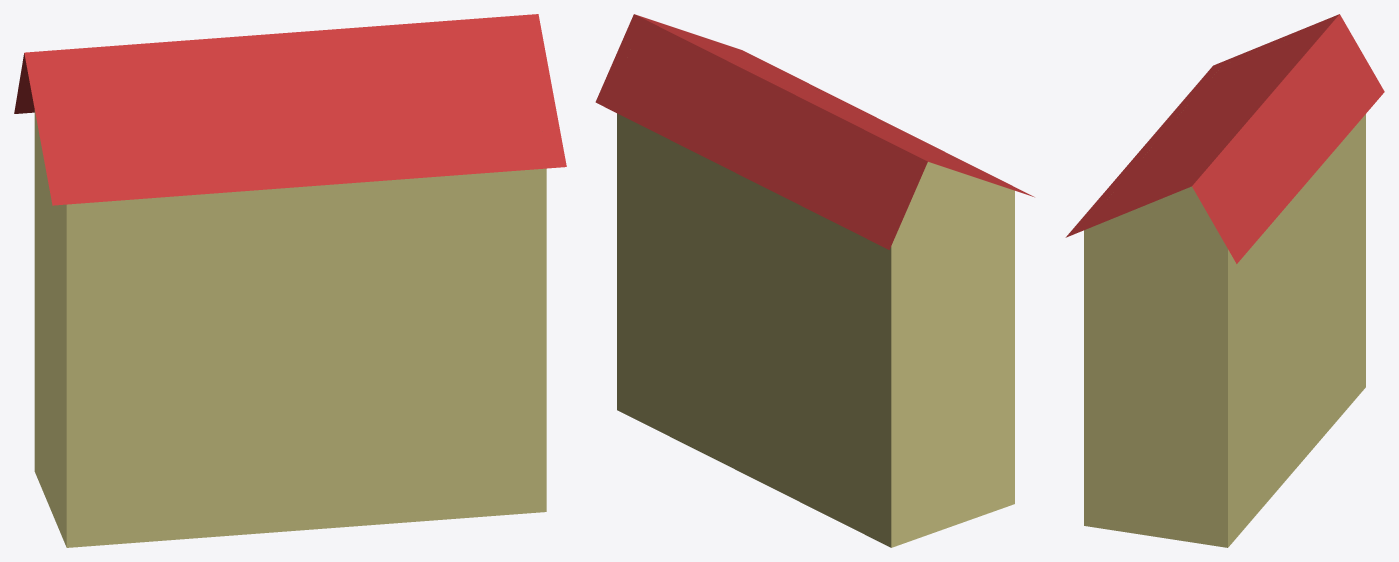
3 renders of one model, left to right at view 1: azimuth 30°, elevation 25°; view 2: azimuth 150°, elevation 25°; view 3: azimuth 270°, elevation 25°, orthographic. The views are drawn at different scales.
Bounding box in the file's own units: 8.05 × 5.47 × 6.85.
